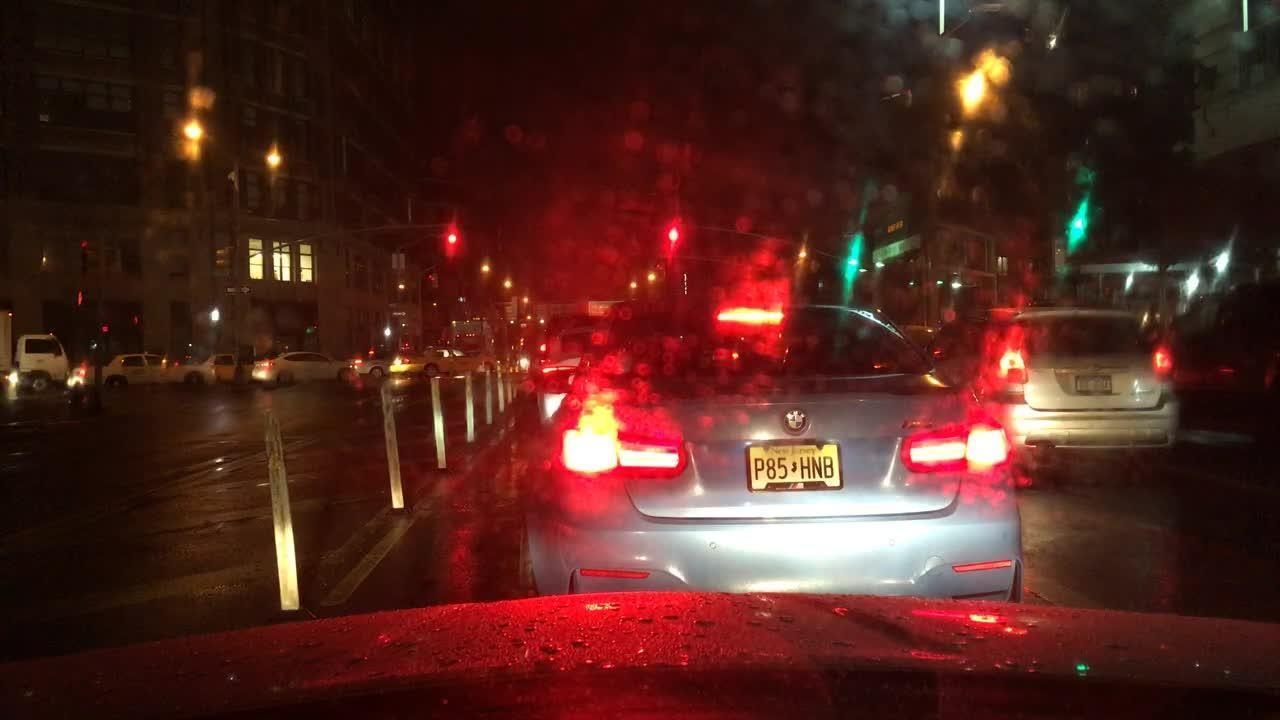bmw: (781, 407, 811, 436)
